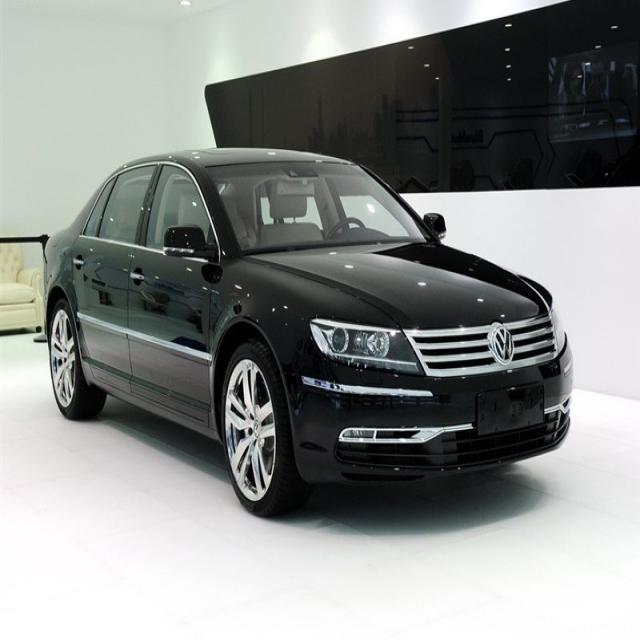door: (86, 165, 160, 381)
front_bumper: (276, 332, 574, 485)
front_glass: (203, 162, 432, 258)
front_left_side_mirror: (424, 211, 449, 244)
front_right_side_door: (126, 158, 215, 433)
front_right_side_light: (309, 316, 425, 378)
front_right_side_mirror: (163, 223, 212, 262)
wheel: (221, 338, 297, 518), (49, 298, 104, 419)
